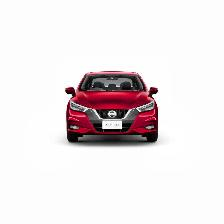NON-EV: (65, 72, 163, 146)
